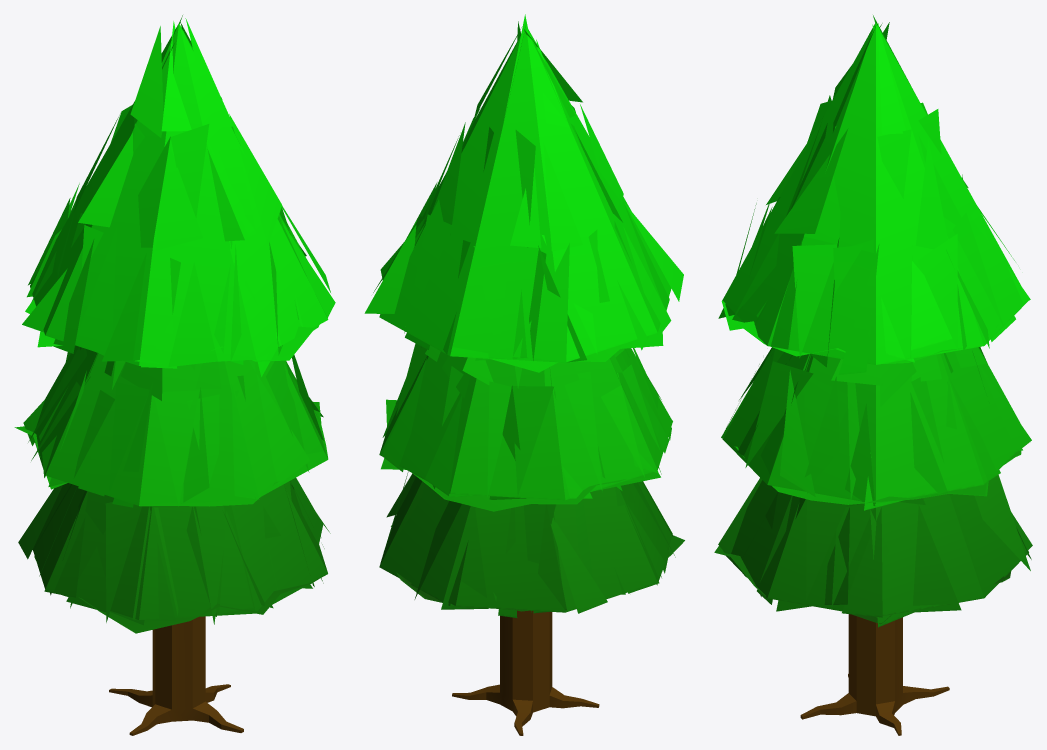
File: Tree_07.fbx
3 views of the same model, side by side, from view 1: azimuth 30°, elevation 25°; view 2: azimuth 150°, elevation 25°; view 3: azimuth 270°, elevation 25° (orthographic).
Parts seen in each view (by area): view 1: Cylinder.001; view 2: Cylinder.001; view 3: Cylinder.001.
Part boxes in pixels (bbox=[...]): Cylinder.001: bbox=[14, 15, 335, 735]; Cylinder.001: bbox=[364, 14, 684, 735]; Cylinder.001: bbox=[714, 15, 1032, 735].
Size of the model in its own units: 211 by 499 by 208.
2 materials, 1 textured.
